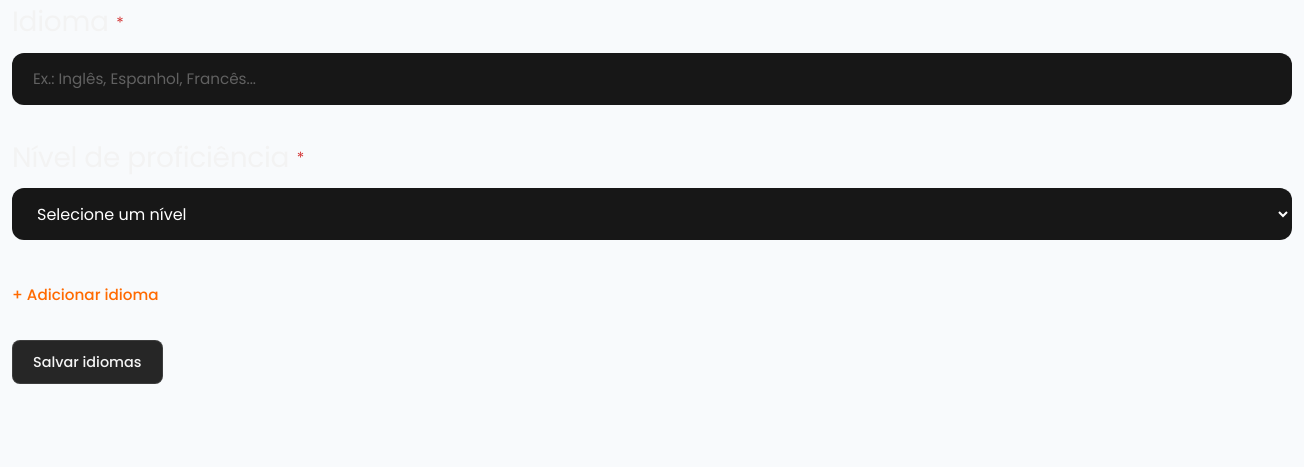
Test case: FormularioIdiomas › exibe erros de validação quando campos obrigatórios estão vazios
Click the button "Salvar idiomas" at (87, 362), box [12, 340, 162, 384]
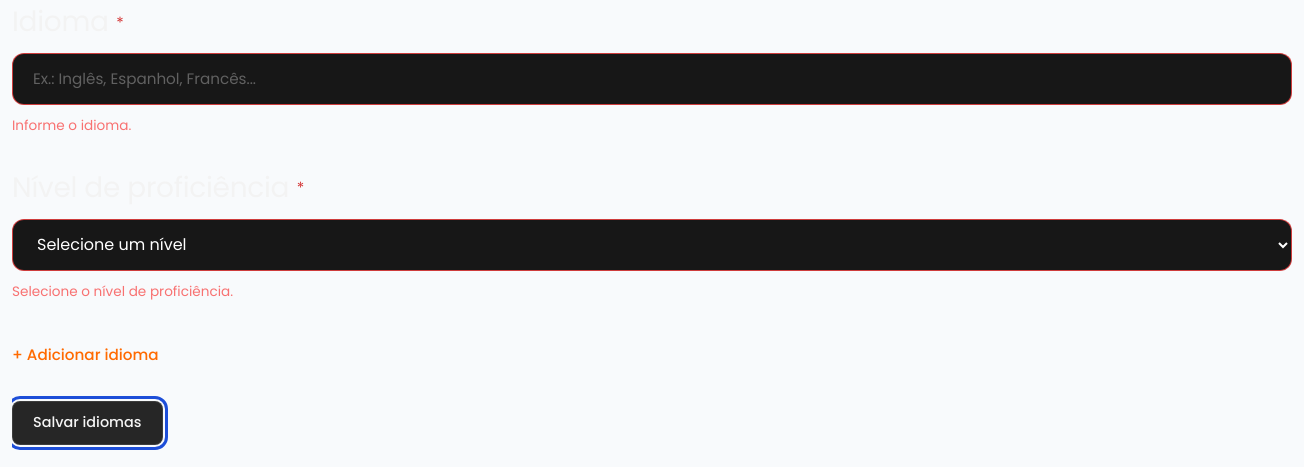
Expected: the text "Informe o idioma." is shown, [12, 116, 131, 135]
Expected: the text "Selecione o nível de proficiência." is shown, [12, 282, 233, 300]
